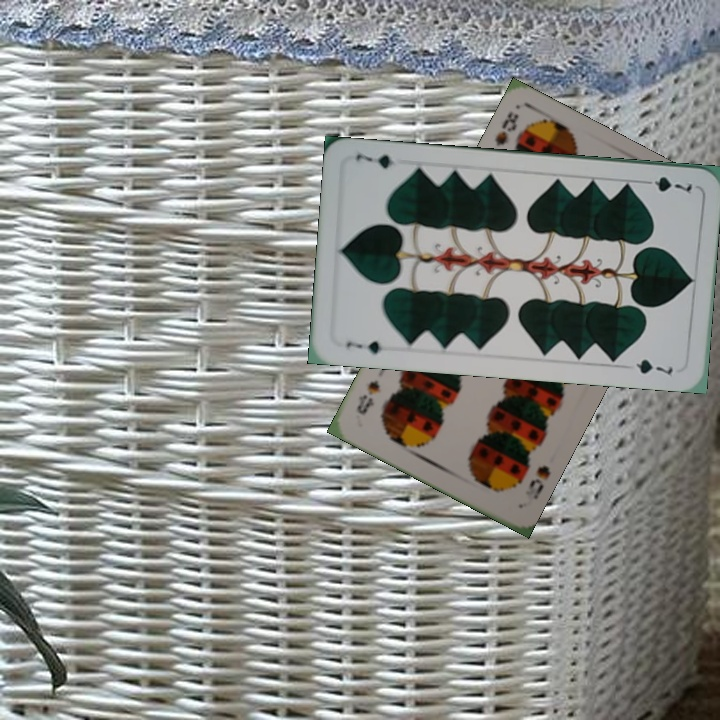G7: (637, 172, 694, 197), (342, 337, 385, 357)
S8: (520, 461, 553, 507), (490, 107, 522, 149)
